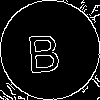B: (25, 25, 62, 73)
